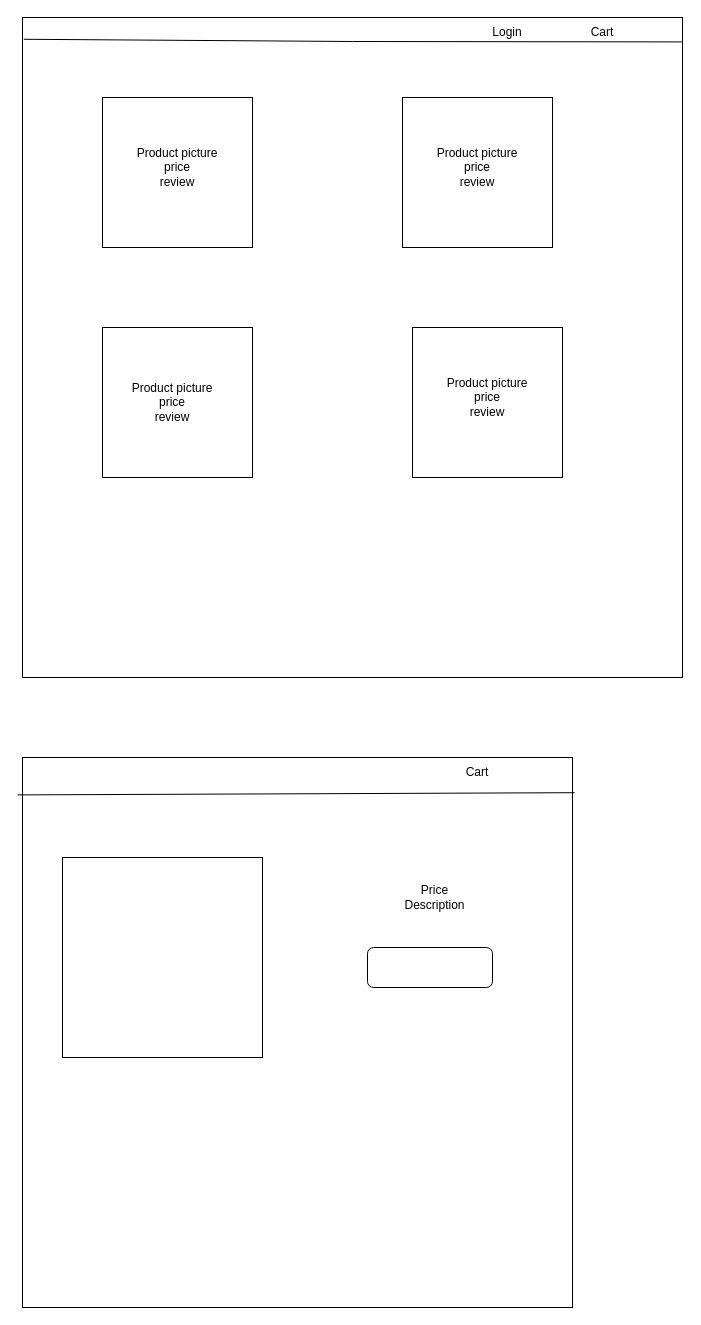
The diagram is 701 pixels wide and 1325 high, and some of its shapes have lost their labels. The centre of each missing label's shape, as x and y in pixels:
Add to Cart: [429,967]
Product Picture: [162,957]
